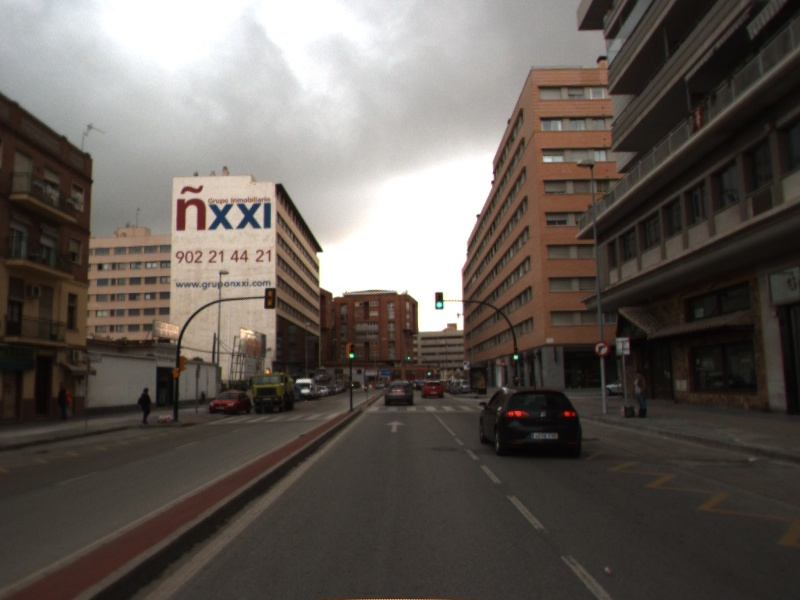STRAIGHT: (383, 419, 407, 434)
